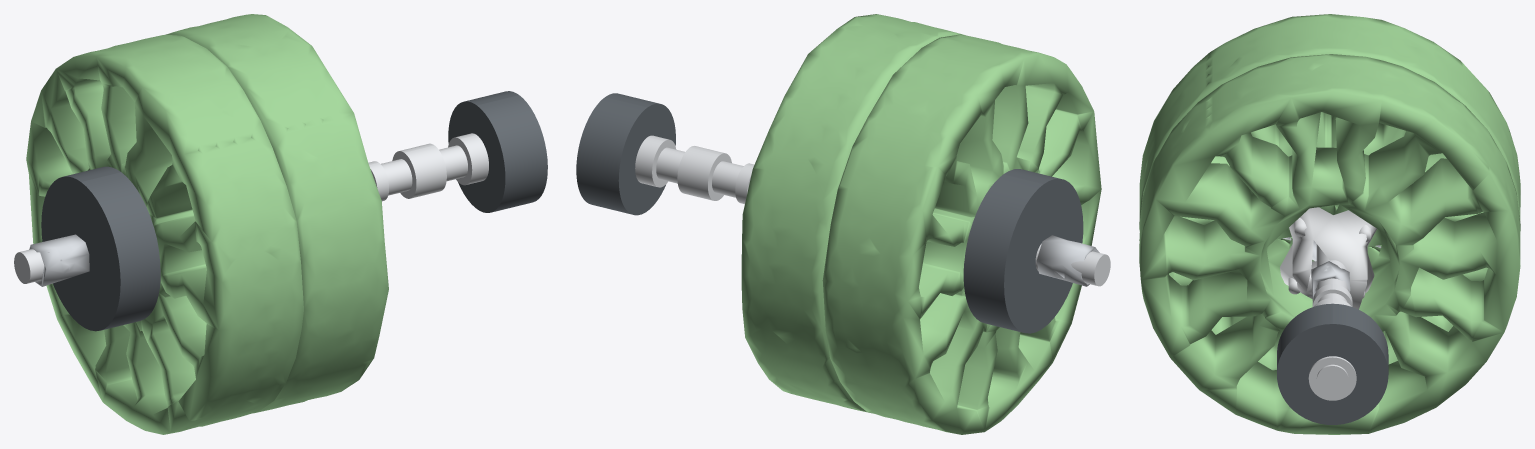
The picture shows the model from 3 angles, left to right: view 1: azimuth 30°, elevation 25°; view 2: azimuth 150°, elevation 25°; view 3: azimuth 270°, elevation 25°; orthographic projection. The views are drawn at different scales.
Visible parts, largest first — view 1: part_1, part_4, part_3, part_0; view 2: part_1, part_4, part_3, part_0; view 3: part_1, part_4, part_2, part_3, part_0.
Boxes of the visible parts, x1=… form: part_1: x1=26, y1=14, x2=388, y2=434; part_4: x1=41, y1=91, x2=547, y2=331; part_3: x1=14, y1=133, x2=488, y2=283; part_0: x1=29, y1=234, x2=89, y2=286; part_1: x1=741, y1=14, x2=1101, y2=434; part_4: x1=576, y1=93, x2=1083, y2=333; part_3: x1=635, y1=135, x2=1110, y2=286; part_0: x1=1036, y1=235, x2=1099, y2=286; part_1: x1=1139, y1=14, x2=1520, y2=434; part_4: x1=1277, y1=303, x2=1388, y2=424; part_2: x1=1280, y1=207, x2=1376, y2=309; part_3: x1=1308, y1=244, x2=1356, y2=400; part_0: x1=1283, y1=237, x2=1381, y2=300.
Size of the model in its own units: 0.144 by 0.0956 by 0.0957.
